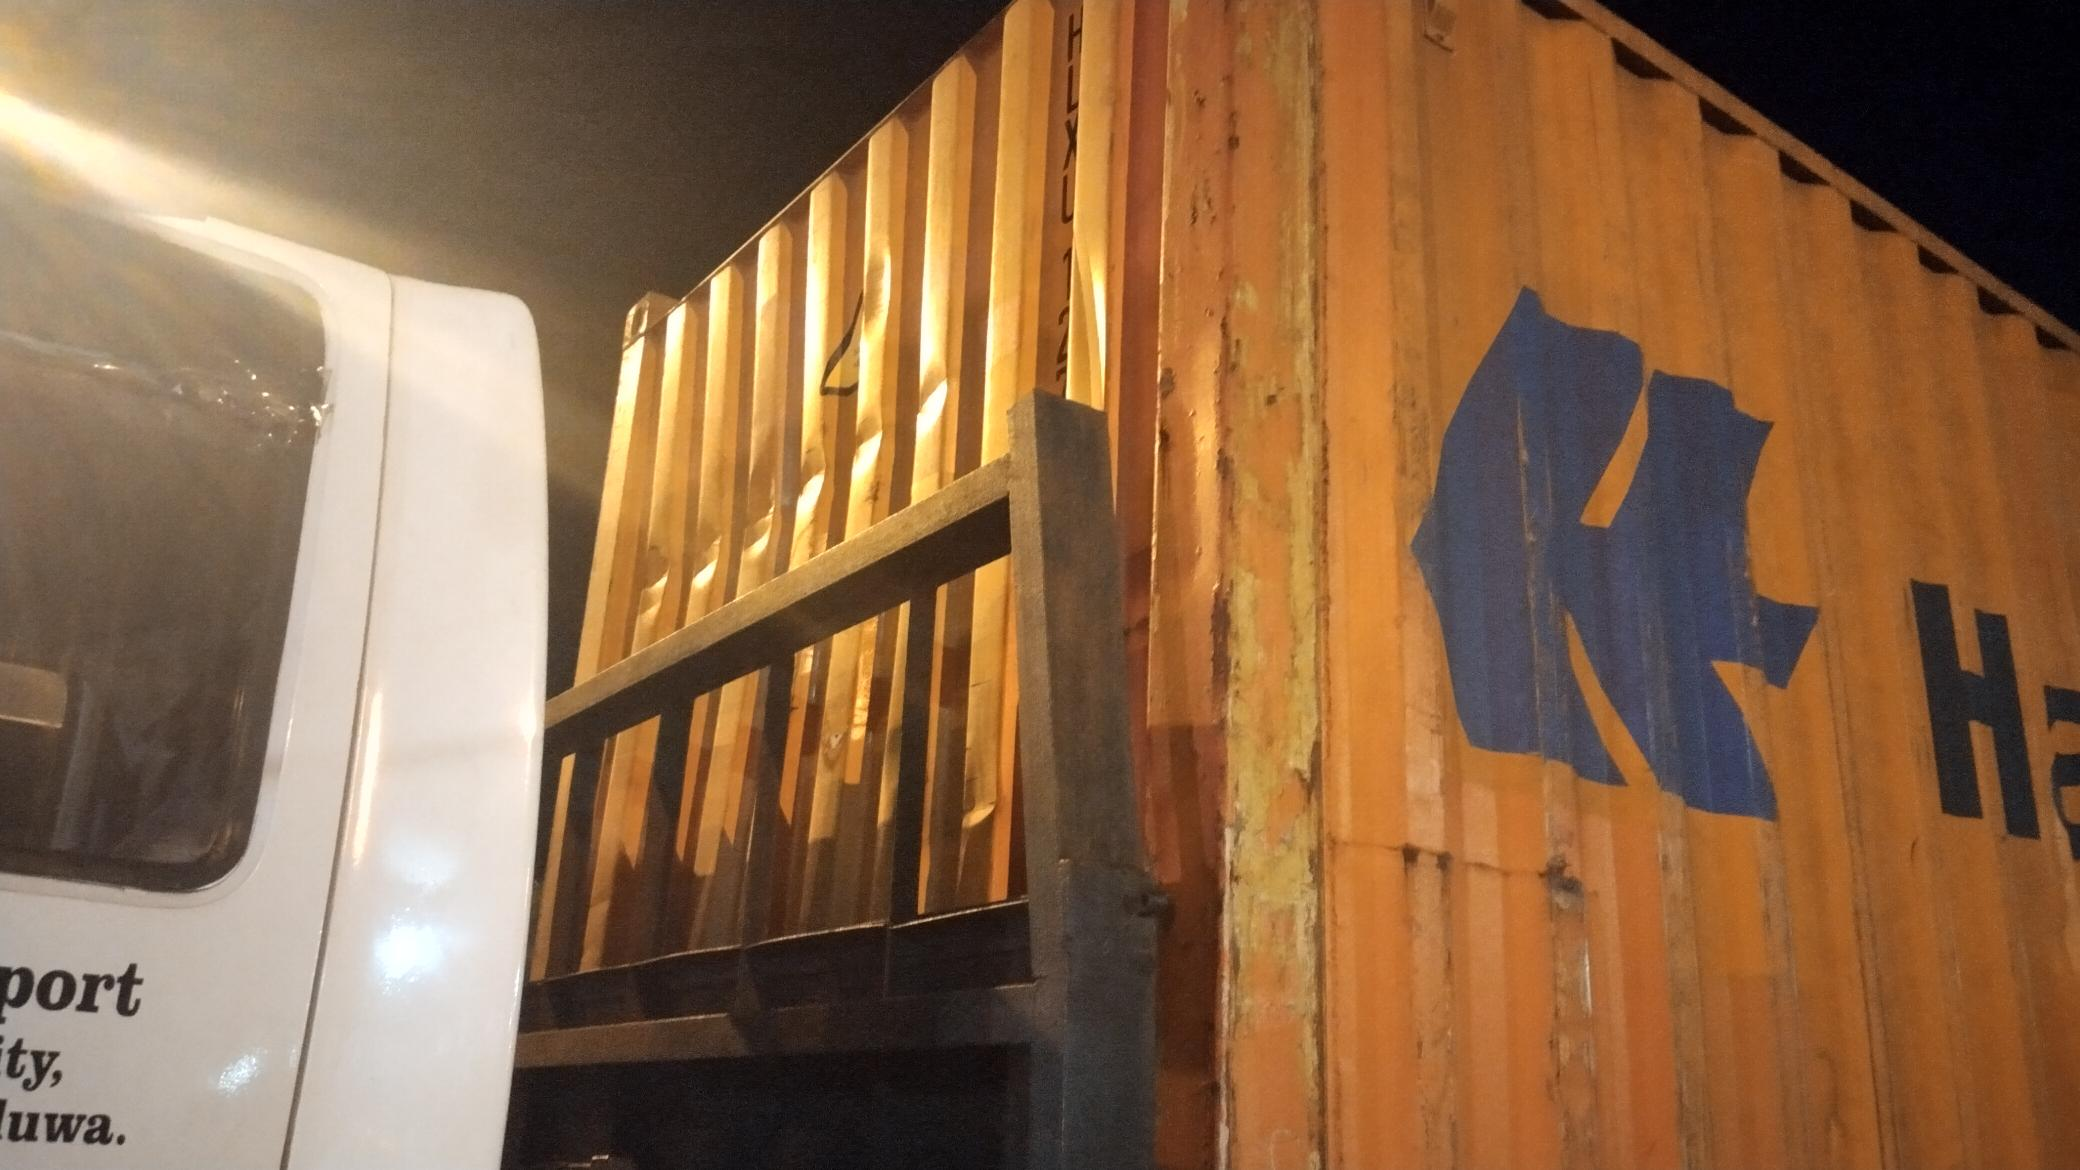dented: (617, 344, 991, 584)
